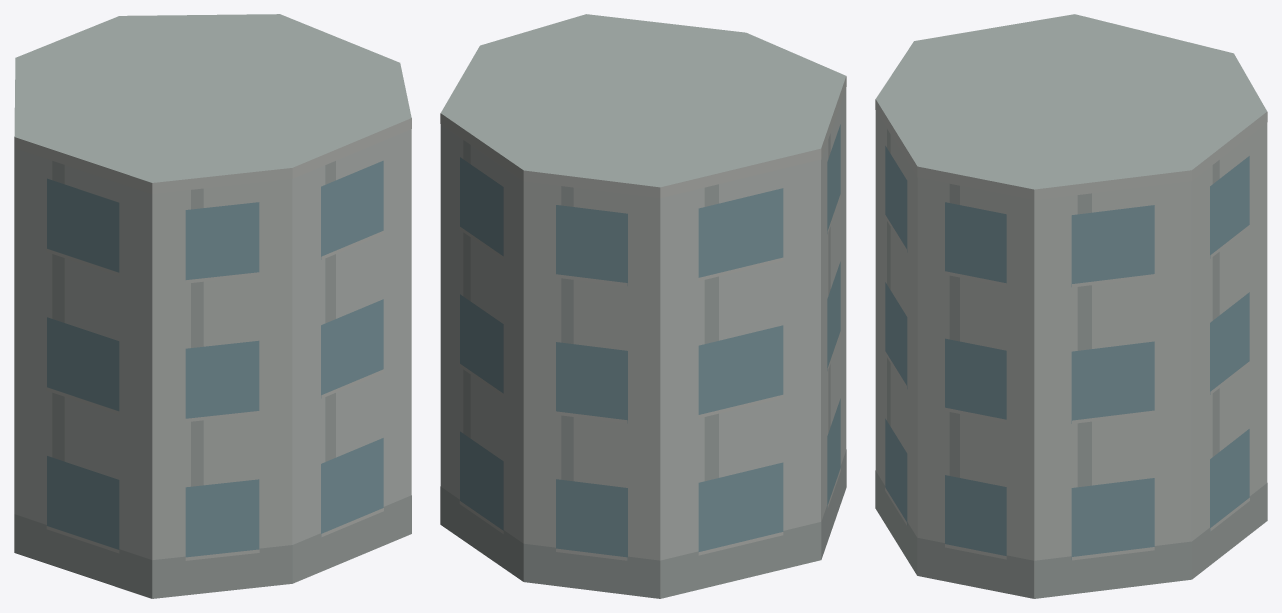
Rendered from survey-upis-33004279.glb.
3 views of the same model, side by side, from view 1: azimuth 30°, elevation 25°; view 2: azimuth 150°, elevation 25°; view 3: azimuth 270°, elevation 25° (orthographic).
Visible parts, largest first — view 1: survey-upis-33004279.tmp; view 2: survey-upis-33004279.tmp; view 3: survey-upis-33004279.tmp.
Part boxes in pixels (x1,y1,x2,y2): survey-upis-33004279.tmp: (14, 14, 411, 598); survey-upis-33004279.tmp: (440, 14, 846, 598); survey-upis-33004279.tmp: (875, 14, 1267, 598).
Bounding box in the file's own units: 8.42 × 9.15 × 7.95.
